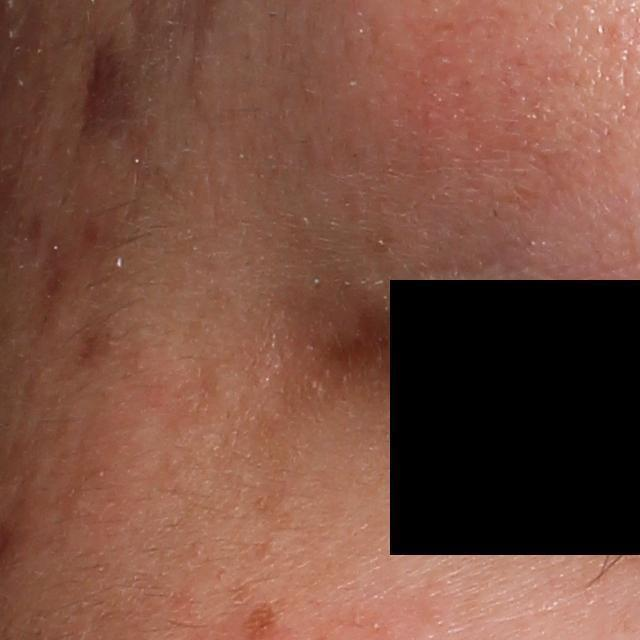melasma: (240, 599, 283, 640)
